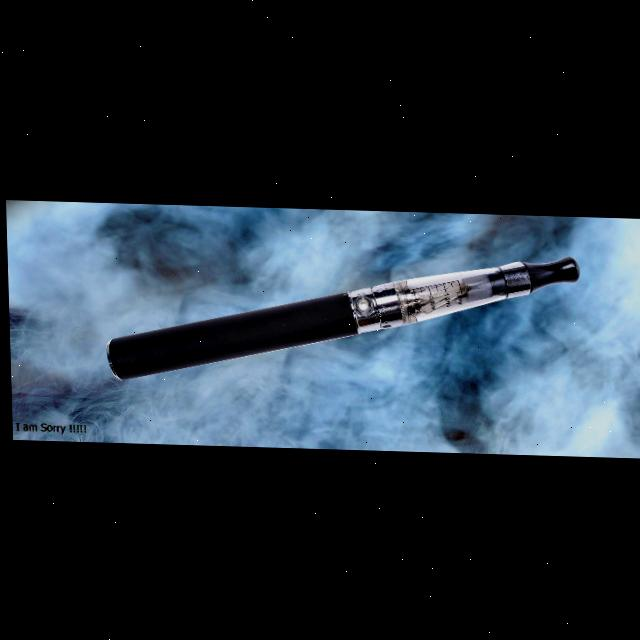vape: (102, 244, 582, 392)
